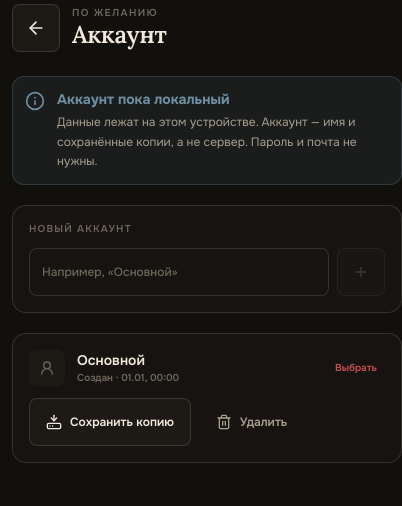
Test: Accounts page › rejects a duplicate name
Expected: the text "Основной" is shown, [77,350,145,368]
Type " основной " into the field labelled "Новый аккаунт".
click(179, 272); type(" основной ")  # box [29,248,329,296]
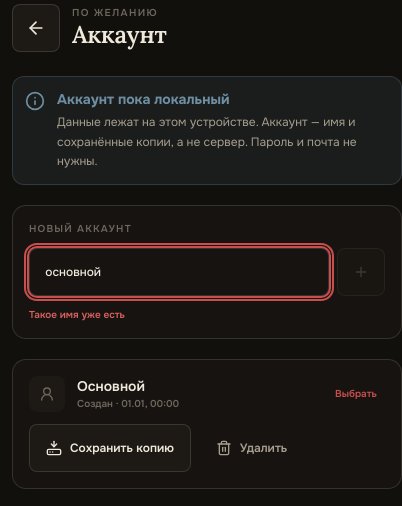
Expected: the button named "Создать аккаунт" is disabled, [337,248,385,296]
Now the text "Такое имя уже есть" is shown, box [29,308,125,320]
